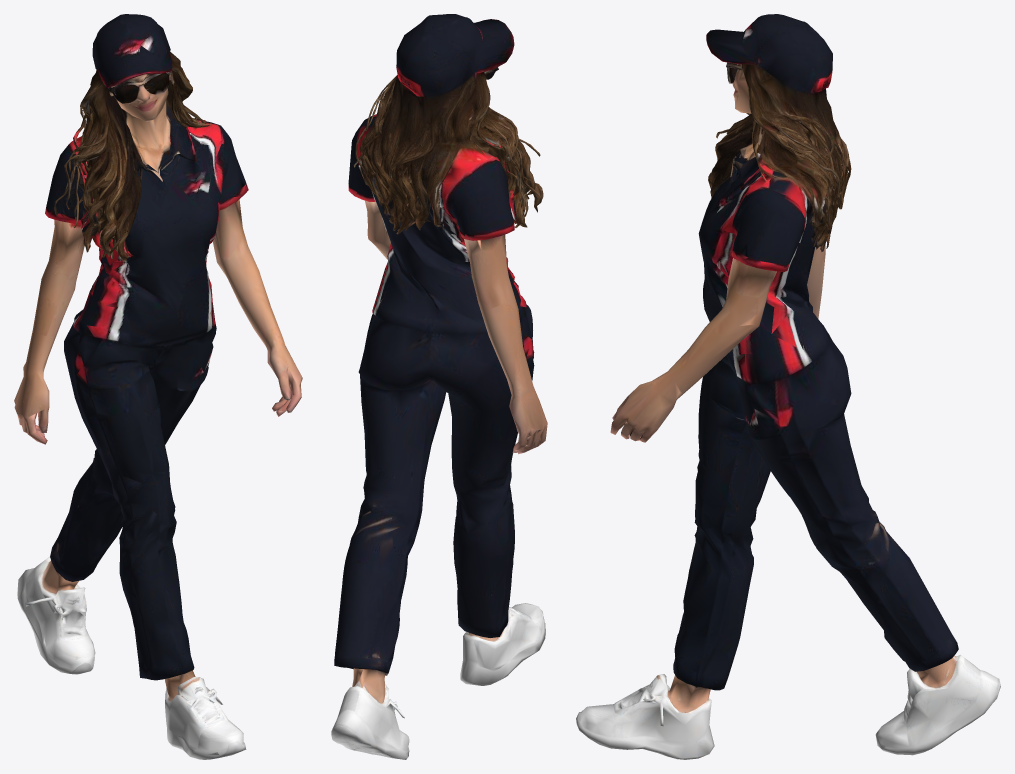
File: extra-woman-2-near.glb
3 renders of one model, left to right at view 1: azimuth 30°, elevation 25°; view 2: azimuth 150°, elevation 25°; view 3: azimuth 270°, elevation 25°, orthographic. The views are drawn at different scales.
Visible parts, largest first — view 1: Mesh_0; view 2: Mesh_0; view 3: Mesh_0.
Part boxes in pixels (x1,y1,x2,y2): Mesh_0: [14, 14, 302, 759]; Mesh_0: [331, 14, 547, 759]; Mesh_0: [576, 14, 1000, 759].
Bounding box in the file's own units: 0.6022 × 1.9 × 1.
Materials: 1 (1 with a texture image).
